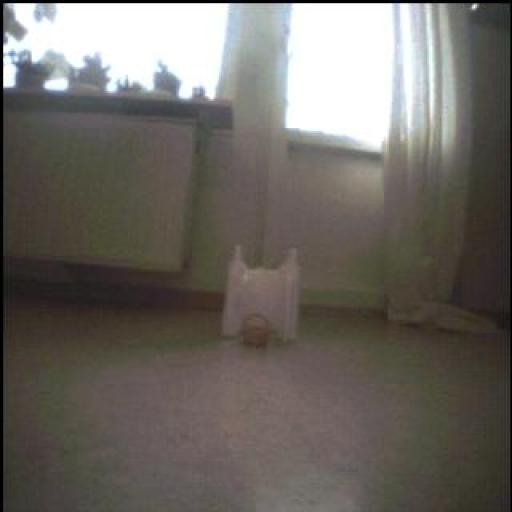Basket: (243, 315, 272, 348)
